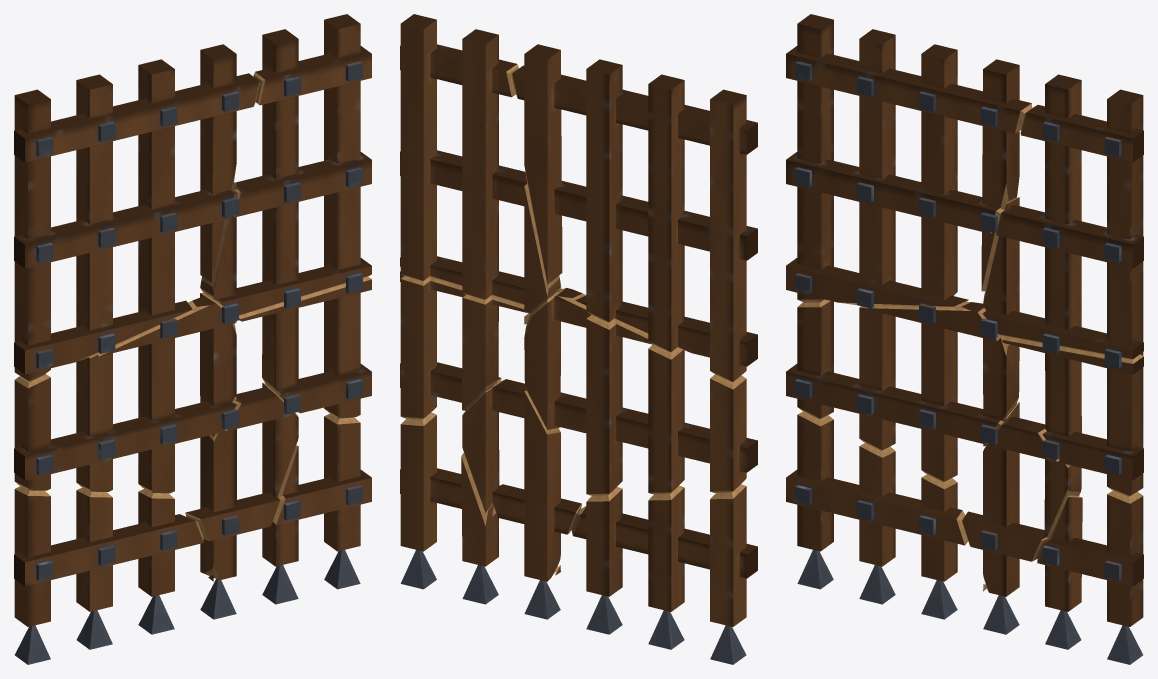
The model's file is Kit_Gate_Portcullis_Fractured.fbx.
3 views of the same model, side by side, from view 1: azimuth 30°, elevation 25°; view 2: azimuth 150°, elevation 25°; view 3: azimuth 330°, elevation 25° (orthographic).
Parts seen in each view (by area): view 1: Kit_Gate_Portcullis_frag_05, Kit_Gate_Portcullis_frag_06, Kit_Gate_Portcullis_frag_04, Kit_Gate_Portcullis_frag_03, Kit_Gate_Portcullis_frag_02, Kit_Gate_Portcullis_frag_01, Kit_Gate_Portcullis_frag_07; view 2: Kit_Gate_Portcullis_frag_05, Kit_Gate_Portcullis_frag_06, Kit_Gate_Portcullis_frag_04, Kit_Gate_Portcullis_frag_03, Kit_Gate_Portcullis_frag_02, Kit_Gate_Portcullis_frag_07, Kit_Gate_Portcullis_frag_01; view 3: Kit_Gate_Portcullis_frag_05, Kit_Gate_Portcullis_frag_06, Kit_Gate_Portcullis_frag_04, Kit_Gate_Portcullis_frag_03, Kit_Gate_Portcullis_frag_02, Kit_Gate_Portcullis_frag_01, Kit_Gate_Portcullis_frag_07.
Boxes of the visible parts, x1,y1,x2,y2 form: Kit_Gate_Portcullis_frag_05: (14, 44, 260, 381); Kit_Gate_Portcullis_frag_06: (200, 14, 371, 315); Kit_Gate_Portcullis_frag_04: (14, 292, 238, 493); Kit_Gate_Portcullis_frag_03: (14, 486, 213, 664); Kit_Gate_Portcullis_frag_02: (185, 382, 298, 619); Kit_Gate_Portcullis_frag_01: (262, 413, 371, 604); Kit_Gate_Portcullis_frag_07: (235, 273, 371, 418); Kit_Gate_Portcullis_frag_05: (511, 44, 757, 382); Kit_Gate_Portcullis_frag_06: (400, 14, 561, 313); Kit_Gate_Portcullis_frag_04: (524, 288, 757, 495); Kit_Gate_Portcullis_frag_03: (555, 484, 757, 664); Kit_Gate_Portcullis_frag_02: (462, 379, 581, 619); Kit_Gate_Portcullis_frag_07: (400, 271, 530, 419); Kit_Gate_Portcullis_frag_01: (400, 412, 499, 604); Kit_Gate_Portcullis_frag_05: (786, 14, 1032, 308); Kit_Gate_Portcullis_frag_06: (982, 74, 1143, 359); Kit_Gate_Portcullis_frag_04: (786, 299, 1019, 482); Kit_Gate_Portcullis_frag_03: (786, 411, 986, 619); Kit_Gate_Portcullis_frag_02: (962, 402, 1081, 634); Kit_Gate_Portcullis_frag_01: (1037, 490, 1143, 664); Kit_Gate_Portcullis_frag_07: (1000, 335, 1143, 496).
Size of what is drawn, in the model's own units: 2.4 by 3.7 by 0.2414.
2 materials, 2 textured.
